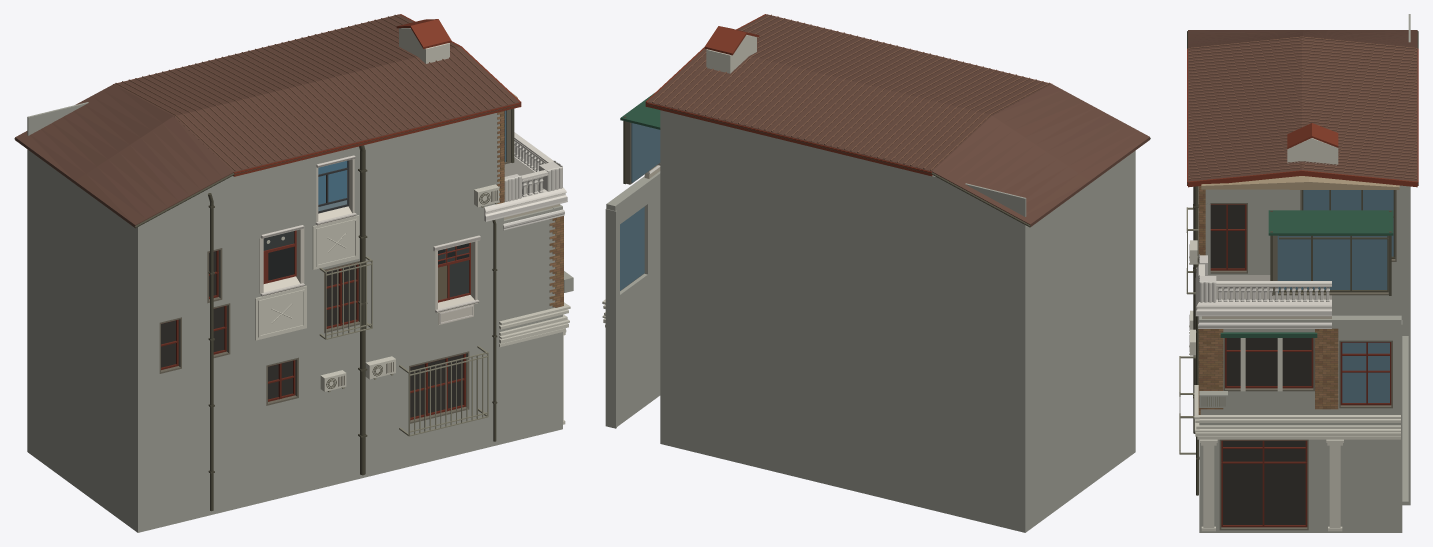
The model's file is jingan-xianlin-villa-no19-terrace-raw.glb.
The picture shows the model from 3 angles, left to right: view 1: azimuth 30°, elevation 25°; view 2: azimuth 150°, elevation 25°; view 3: azimuth 270°, elevation 25°; orthographic projection. The views are drawn at different scales.
Parts seen in each view (by area): view 1: 贤邻别墅愚园路470弄19号的转角露台与庭院立面; view 2: 贤邻别墅愚园路470弄19号的转角露台与庭院立面; view 3: 贤邻别墅愚园路470弄19号的转角露台与庭院立面.
Boxes of the visible parts, left/top/right/bottom form: 贤邻别墅愚园路470弄19号的转角露台与庭院立面: left=14, top=14, right=573, bottom=532; 贤邻别墅愚园路470弄19号的转角露台与庭院立面: left=602, top=14, right=1150, bottom=532; 贤邻别墅愚园路470弄19号的转角露台与庭院立面: left=1179, top=14, right=1418, bottom=532.
Bounding box in the file's own units: 14.4 × 11.85 × 7.02.
Materials: 30 (1 with a texture image).
